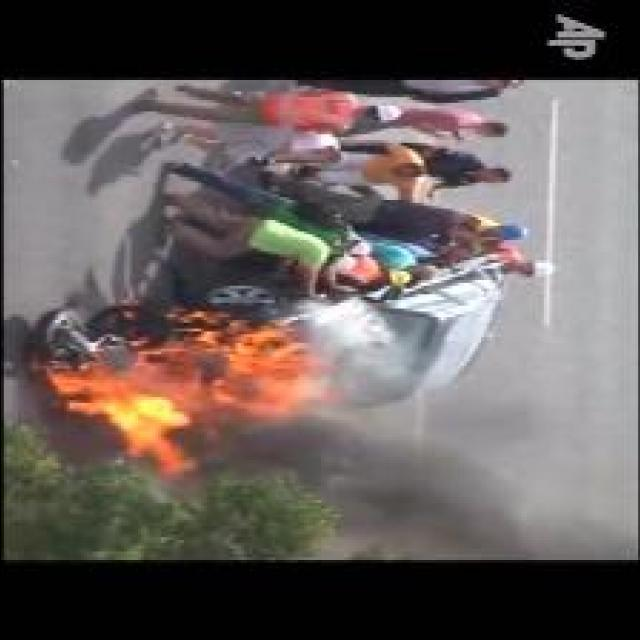Fire: (49, 321, 337, 473)
